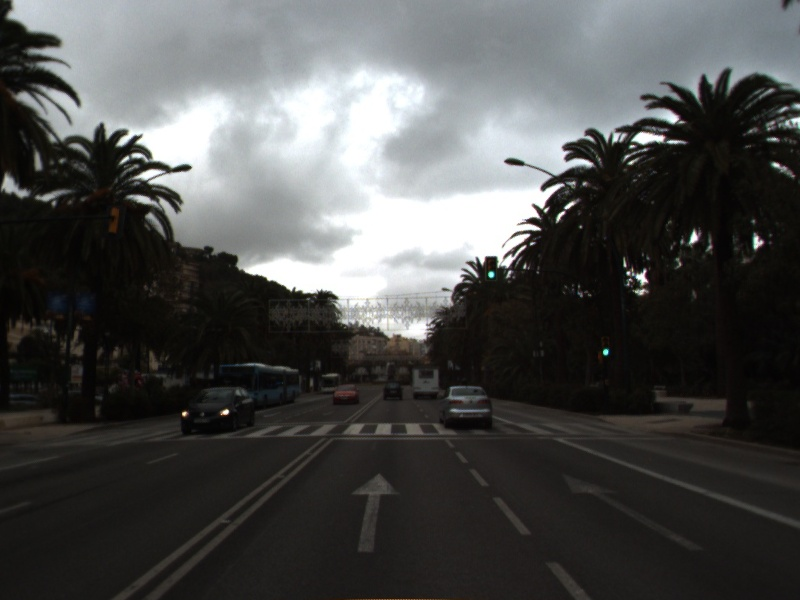STRAIGHT: (559, 470, 706, 553), (348, 471, 403, 555)
